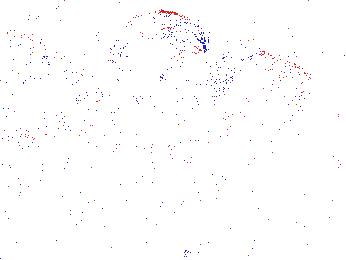moon jellyfish: (1, 34, 98, 138), (95, 96, 228, 159), (210, 56, 312, 116), (111, 10, 206, 72)
